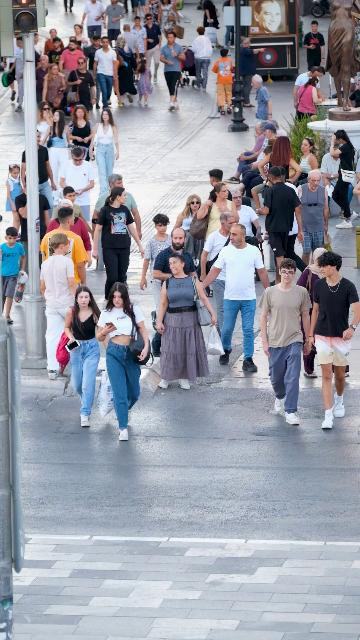person: (200, 223, 270, 372), (308, 250, 360, 430), (259, 258, 313, 425), (96, 282, 150, 441), (155, 252, 217, 390), (92, 186, 145, 311), (151, 227, 200, 360), (63, 286, 105, 427), (259, 165, 306, 289), (40, 233, 78, 380), (200, 211, 235, 337), (39, 206, 90, 290), (296, 248, 328, 378), (140, 213, 172, 328), (92, 173, 142, 243), (46, 198, 95, 268), (223, 145, 273, 213), (38, 110, 72, 207), (297, 169, 330, 266), (59, 146, 95, 234), (20, 130, 57, 207), (0, 226, 29, 324), (172, 193, 205, 276), (89, 108, 119, 198), (329, 129, 356, 229), (196, 182, 239, 239), (228, 122, 266, 183), (258, 135, 302, 186), (239, 122, 277, 178), (160, 31, 186, 111), (230, 188, 264, 248), (92, 36, 119, 109), (239, 38, 266, 108), (15, 190, 51, 242), (249, 138, 274, 212), (67, 57, 96, 119), (211, 48, 235, 115), (140, 14, 163, 83), (68, 104, 94, 162), (82, 36, 102, 110), (116, 37, 138, 104), (192, 26, 214, 93), (50, 186, 88, 223), (294, 65, 325, 110), (42, 63, 68, 116), (293, 137, 319, 189), (5, 164, 26, 228), (302, 20, 326, 72), (297, 78, 325, 122), (5, 34, 23, 101), (130, 15, 147, 82), (320, 148, 342, 198), (102, 0, 125, 47), (80, 0, 106, 41), (118, 23, 139, 72), (251, 74, 272, 121), (60, 40, 86, 77), (158, 0, 180, 43), (135, 57, 153, 108), (202, 0, 220, 49), (208, 168, 233, 201), (14, 38, 25, 111), (35, 101, 54, 143), (35, 55, 50, 103), (222, 0, 236, 48), (181, 45, 196, 87), (259, 119, 288, 140), (113, 57, 124, 107), (72, 24, 92, 51), (48, 37, 64, 66), (45, 28, 59, 61), (147, 0, 162, 27), (133, 0, 147, 24), (33, 33, 45, 55), (124, 0, 133, 14), (69, 36, 77, 44)
